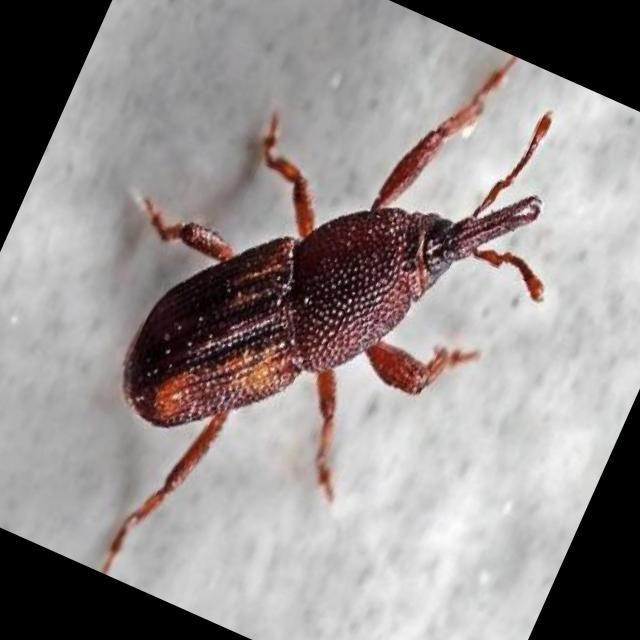rice-bug: (91, 36, 562, 554)
